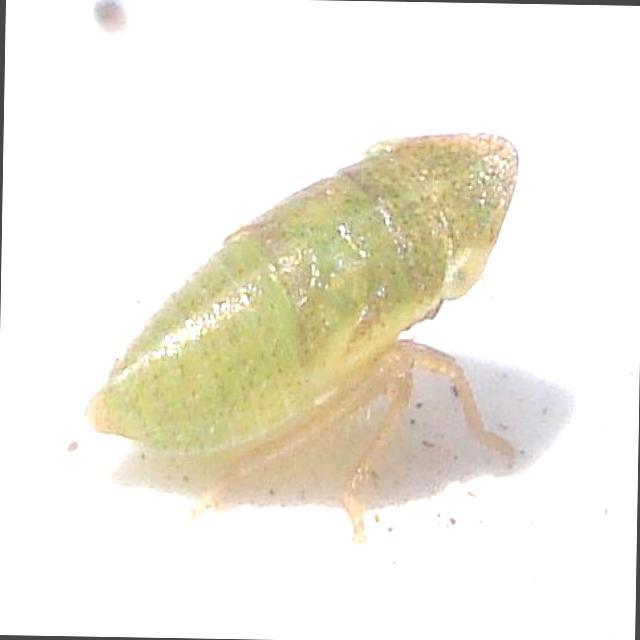green leaf hopper: (87, 134, 518, 541)
